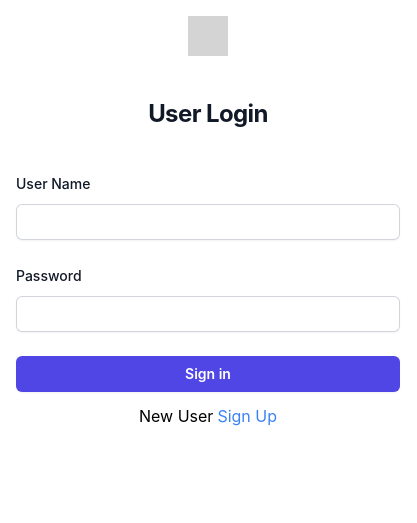
Login form › submits the form with correct data
Type "dharamvir@example.com" into the field with test id "userName". click: coordinates (208, 222)
box: left=16, top=204, right=400, bottom=240
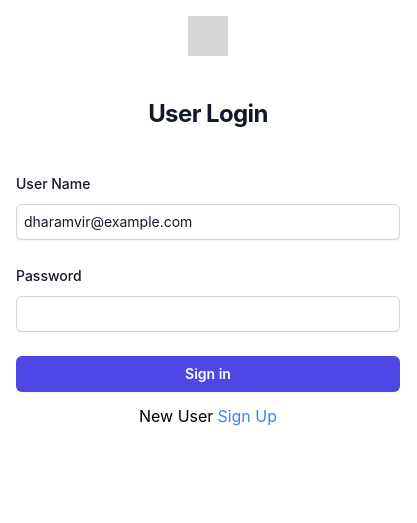
Type "Nokia@123" into the password field with test id "password". click: coordinates (208, 314)
box: left=16, top=296, right=400, bottom=332
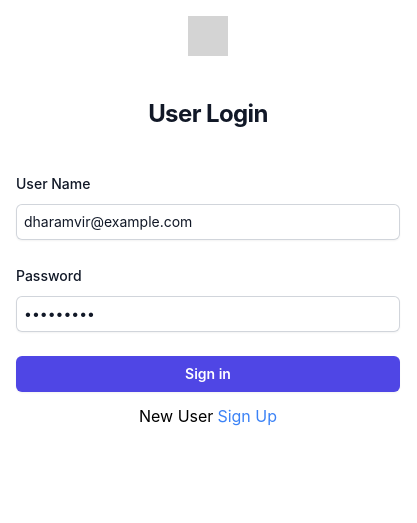
Click the button with test id "sign-in". click: coordinates (208, 374)
box: left=16, top=356, right=400, bottom=392
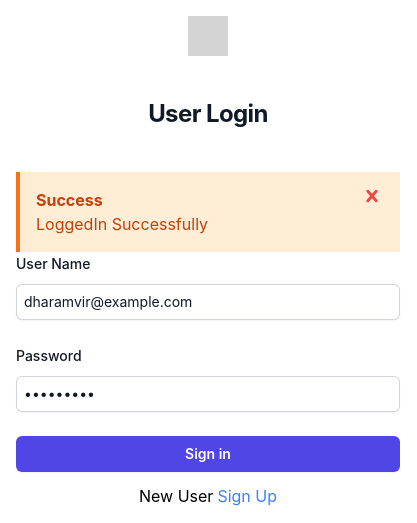
expect the text "LoggedIn Successfully" is shown: met, box left=36, top=214, right=208, bottom=234
